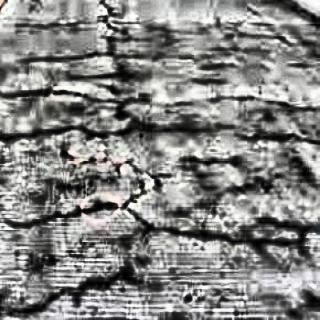crack: (13, 254, 135, 317), (126, 208, 309, 249), (61, 152, 156, 206), (8, 203, 125, 230), (2, 122, 135, 144), (97, 1, 138, 69), (1, 84, 119, 106), (211, 92, 319, 115), (24, 47, 103, 66), (245, 129, 320, 149), (147, 121, 231, 135)
